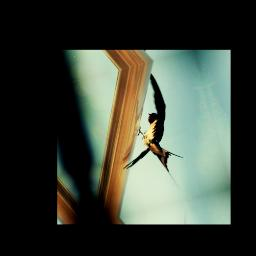Swallow: (101, 69, 192, 202)
